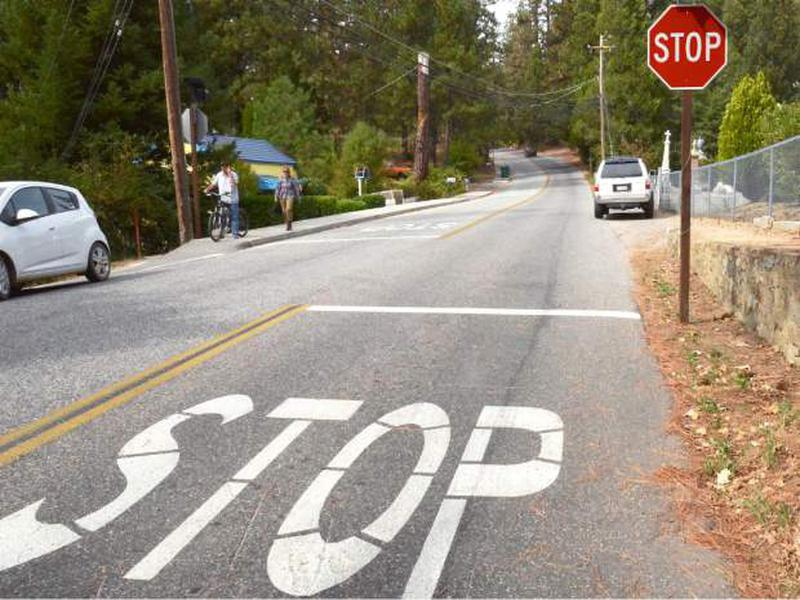stop: (644, 1, 730, 90)
